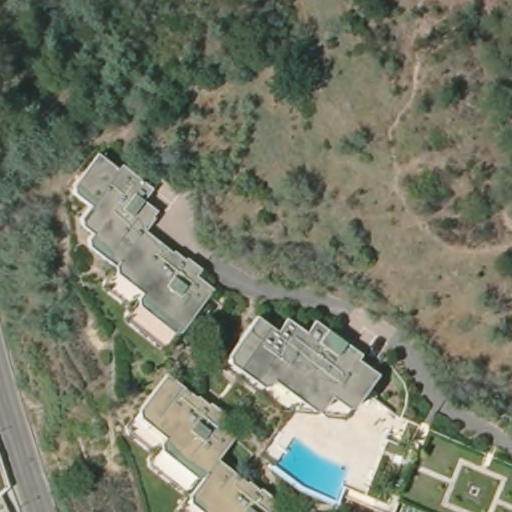pool: (271, 439, 350, 502)
